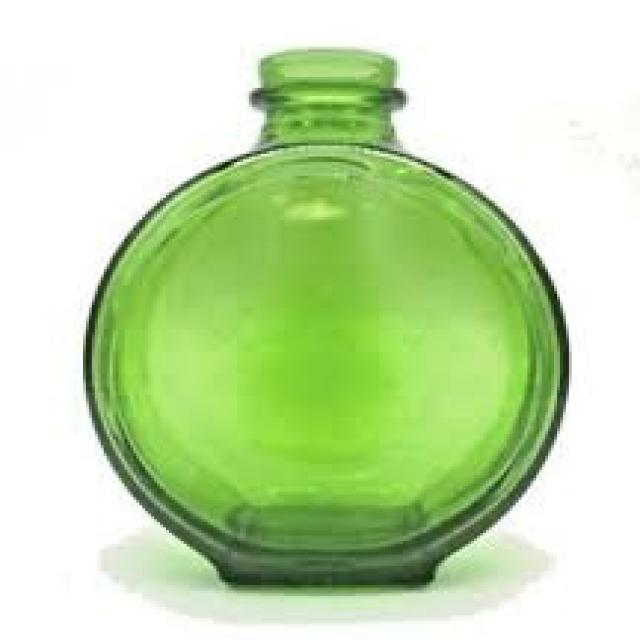glass: (83, 47, 569, 588)
